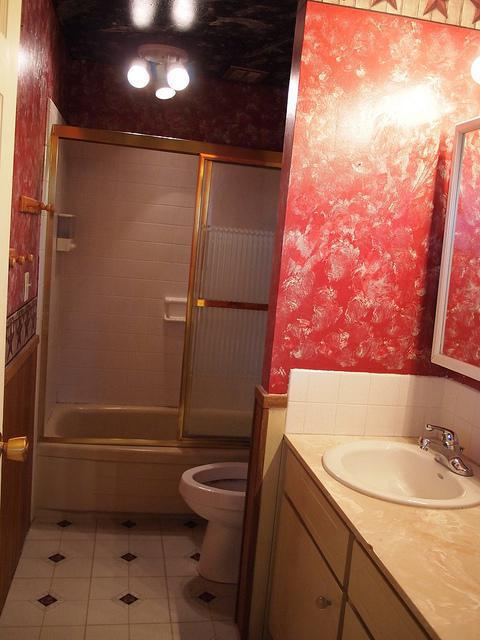Lavamanos: (312, 416, 479, 518)
Sanitario: (176, 458, 341, 576)
